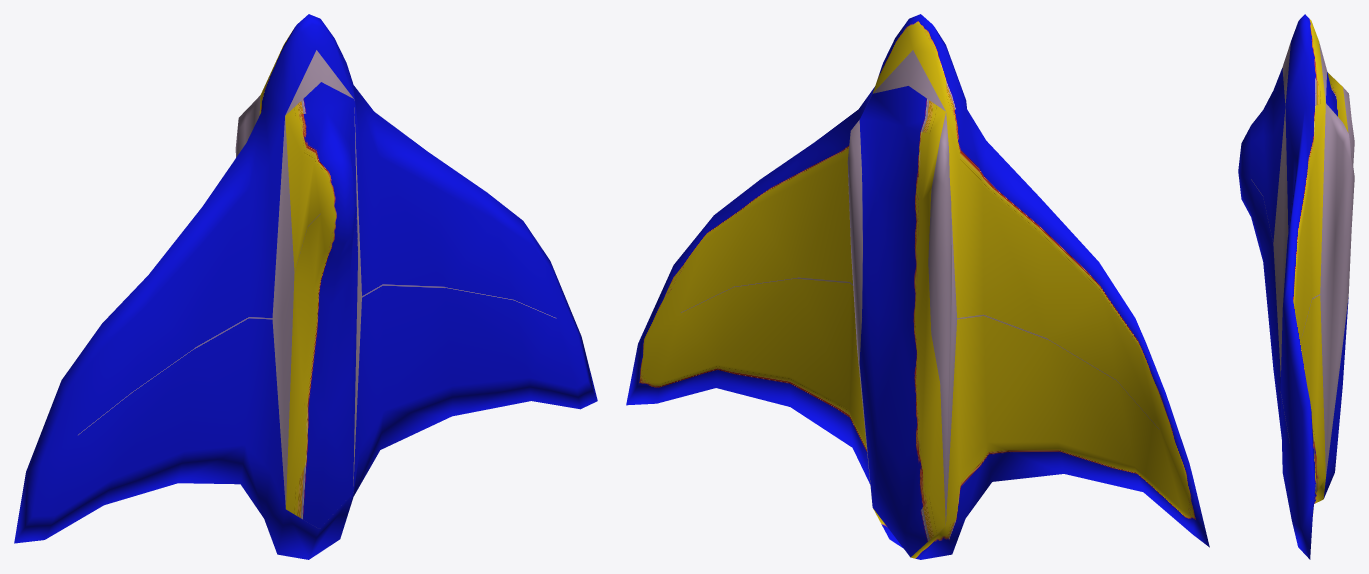
Rendered from Player2.FBX.
3 views of the same model, side by side, from view 1: azimuth 30°, elevation 25°; view 2: azimuth 150°, elevation 25°; view 3: azimuth 270°, elevation 25° (orthographic). The views are drawn at different scales.
Parts seen in each view (by area): view 1: Box01; view 2: Box01; view 3: Box01.
Boxes of the visible parts, left/top/right/bottom form: Box01: left=14, top=14, right=597, bottom=559; Box01: left=626, top=14, right=1209, bottom=559; Box01: left=1238, top=14, right=1354, bottom=559.
Size of the model in its own units: 137 by 26.15 by 122.
Materials: 1 (1 with a texture image).
